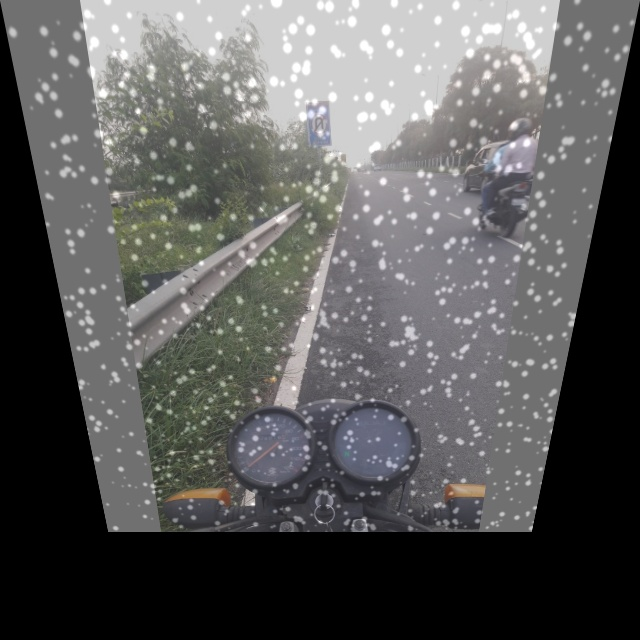U_Turn_Prohibited: (307, 105, 333, 143)
